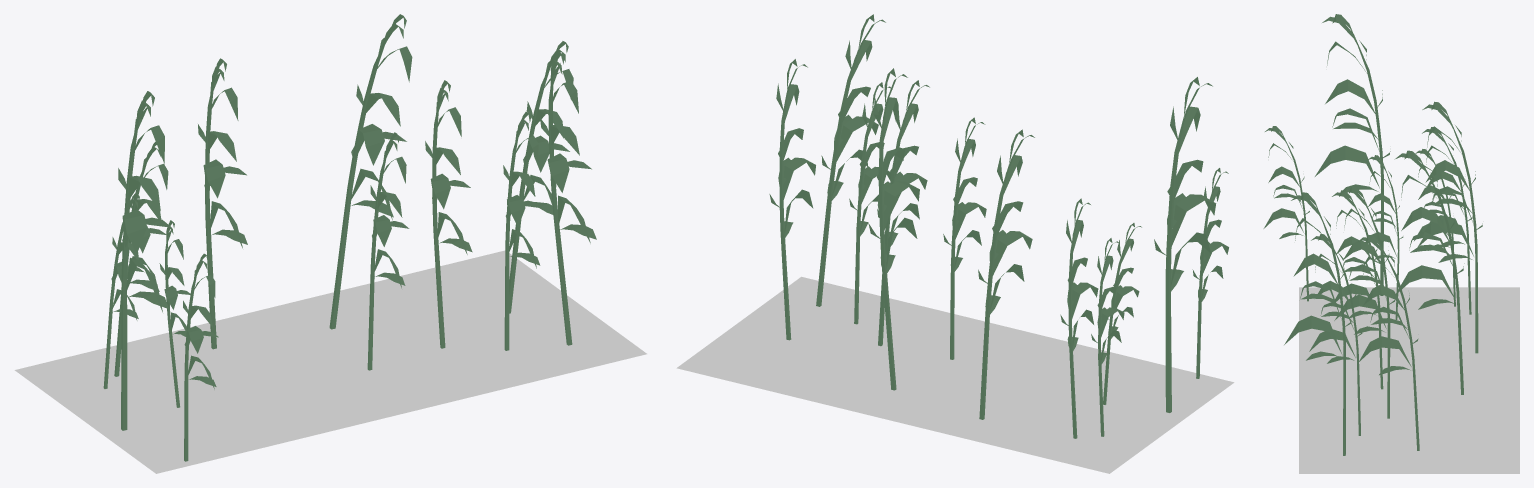
File: reeds.fbx
3 renders of one model, left to right at view 1: azimuth 30°, elevation 25°; view 2: azimuth 150°, elevation 25°; view 3: azimuth 270°, elevation 25°, orthographic. The views are drawn at different scales.
Parts seen in each view (by area): view 1: Plane.020, Plane.020|stem.001|Dupli|11, Plane.020|stem.001|Dupli|4, Plane.020|stem.001|Dupli|, Plane.020|stem.001|Dupli|6, Plane.020|stem.001|Dupli|3, Plane.020|stem.001|Dupli|2, Plane.020|stem.001|Dupli|5, Plane.020|stem.001|Dupli|1, Plane.020|stem.001|Dupli|10, Plane.020|stem.001|Dupli|8, Plane.020|stem.001|Dupli|7 (+1 smaller); view 2: Plane.020, Plane.020|stem.001|Dupli|11, Plane.020|stem.001|Dupli|4, Plane.020|stem.001|Dupli|6, Plane.020|stem.001|Dupli|, Plane.020|stem.001|Dupli|1, Plane.020|stem.001|Dupli|5, Plane.020|stem.001|Dupli|8, Plane.020|stem.001|Dupli|3, Plane.020|stem.001|Dupli|2, Plane.020|stem.001|Dupli|10, Plane.020|stem.001|Dupli|9 (+1 smaller); view 3: Plane.020, Plane.020|stem.001|Dupli|11, Plane.020|stem.001|Dupli|4, Plane.020|stem.001|Dupli|, Plane.020|stem.001|Dupli|6, Plane.020|stem.001|Dupli|1, Plane.020|stem.001|Dupli|3, Plane.020|stem.001|Dupli|2, Plane.020|stem.001|Dupli|5, Plane.020|stem.001|Dupli|10, Plane.020|stem.001|Dupli|8, Plane.020|stem.001|Dupli|7 (+1 smaller).
Part boxes in pixels (<box>): Plane.020: <box>14,250,646,473</box>; Plane.020|stem.001|Dupli|11: <box>118,91,171,430</box>; Plane.020|stem.001|Dupli|4: <box>329,14,412,329</box>; Plane.020|stem.001|Dupli|: <box>540,51,596,345</box>; Plane.020|stem.001|Dupli|6: <box>198,58,247,349</box>; Plane.020|stem.001|Dupli|3: <box>425,80,472,348</box>; Plane.020|stem.001|Dupli|2: <box>503,112,542,350</box>; Plane.020|stem.001|Dupli|5: <box>367,132,409,370</box>; Plane.020|stem.001|Dupli|1: <box>509,41,573,313</box>; Plane.020|stem.001|Dupli|10: <box>183,253,218,461</box>; Plane.020|stem.001|Dupli|8: <box>114,141,168,376</box>; Plane.020|stem.001|Dupli|7: <box>159,220,190,407</box>; Plane.020: <box>676,276,1234,473</box>; Plane.020|stem.001|Dupli|11: <box>1154,77,1216,412</box>; Plane.020|stem.001|Dupli|4: <box>868,68,919,390</box>; Plane.020|stem.001|Dupli|6: <box>978,129,1034,419</box>; Plane.020|stem.001|Dupli|: <box>816,14,885,306</box>; Plane.020|stem.001|Dupli|1: <box>769,59,815,340</box>; Plane.020|stem.001|Dupli|5: <box>943,117,986,359</box>; Plane.020|stem.001|Dupli|8: <box>1060,198,1098,438</box>; Plane.020|stem.001|Dupli|3: <box>877,80,929,346</box>; Plane.020|stem.001|Dupli|2: <box>849,82,891,324</box>; Plane.020|stem.001|Dupli|10: <box>1192,168,1228,378</box>; Plane.020|stem.001|Dupli|9: <box>1091,238,1124,436</box>; Plane.020: <box>1299,287,1519,473</box>; Plane.020|stem.001|Dupli|11: <box>1315,14,1390,295</box>; Plane.020|stem.001|Dupli|4: <box>1394,150,1464,394</box>; Plane.020|stem.001|Dupli|: <box>1284,192,1351,455</box>; Plane.020|stem.001|Dupli|6: <box>1418,101,1482,353</box>; Plane.020|stem.001|Dupli|1: <box>1357,235,1419,450</box>; Plane.020|stem.001|Dupli|3: <box>1334,185,1394,418</box>; Plane.020|stem.001|Dupli|2: <box>1309,234,1362,435</box>; Plane.020|stem.001|Dupli|5: <box>1331,190,1383,389</box>; Plane.020|stem.001|Dupli|10: <box>1263,126,1310,301</box>; Plane.020|stem.001|Dupli|8: <box>1422,127,1472,314</box>; Plane.020|stem.001|Dupli|7: <box>1366,155,1403,319</box>.
Size of the model in its own units: 1988 by 1379 by 1145.
